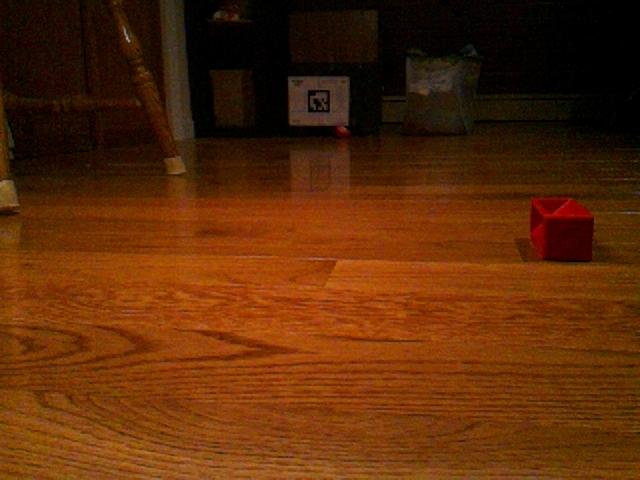red: (528, 195, 595, 263)
